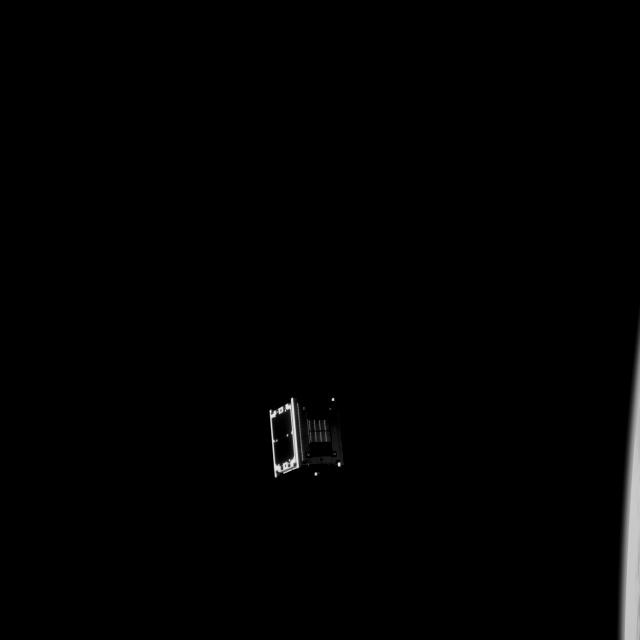satellite: (264, 390, 352, 485)
